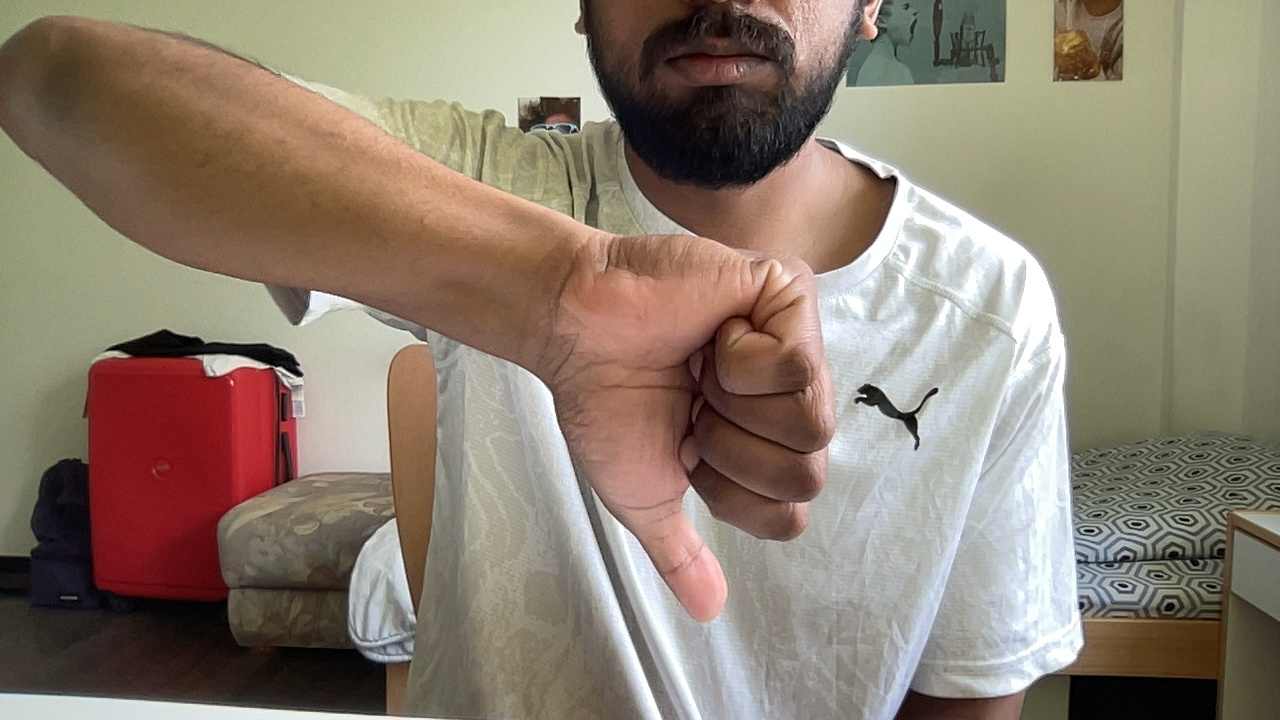ThumbsDown: (559, 232, 838, 630)
